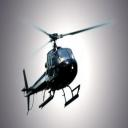helicopter: (23, 20, 119, 118)
